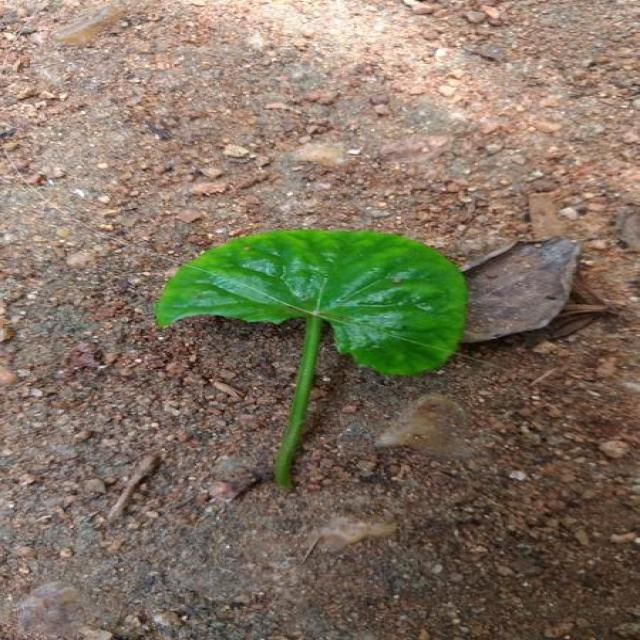defectedbhrami: (157, 231, 468, 375)
